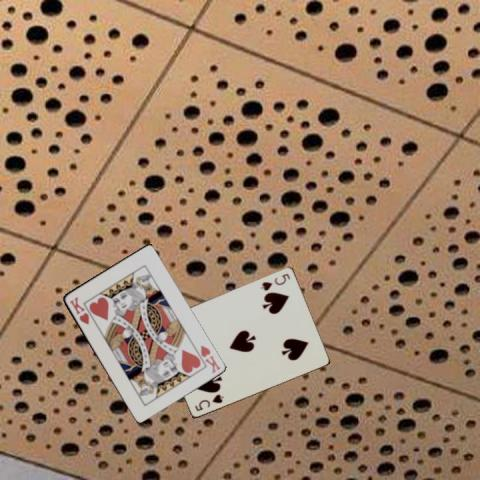5s: (258, 270, 292, 292), (192, 391, 225, 412)
Kh: (66, 294, 90, 326), (198, 342, 222, 374)
